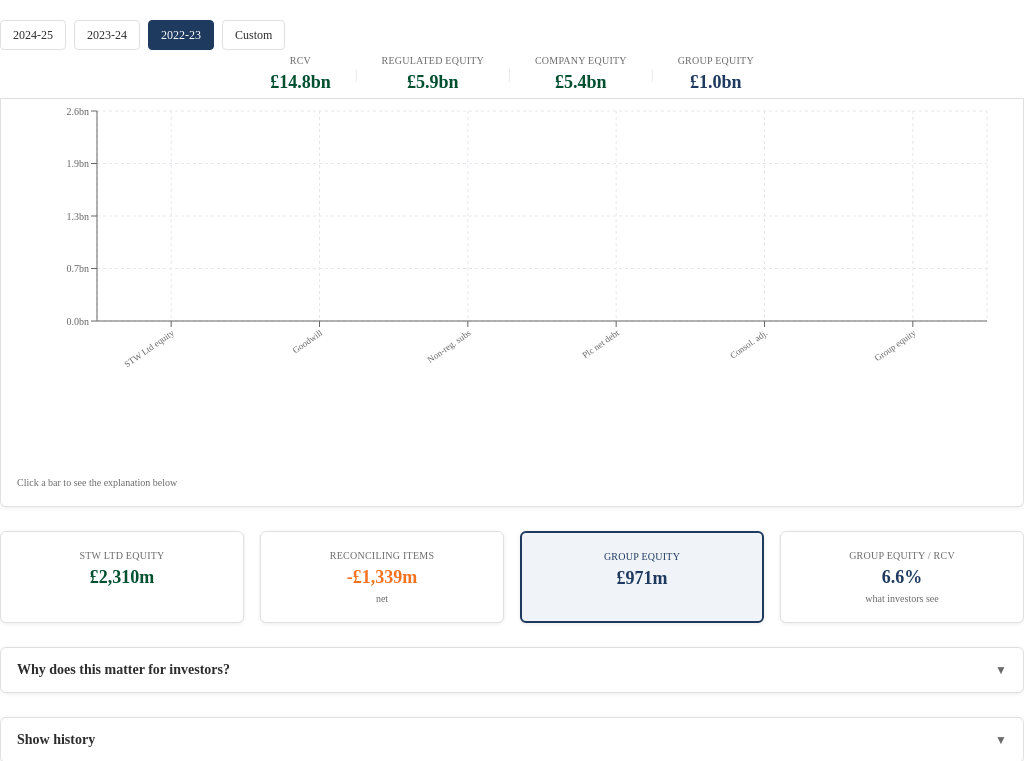
Test: EquityBridge › Stage 4 context panel expands on click
(page scrolled)
Click the text "Why does this matter for investors?": (124, 670) [17,660,230,680]
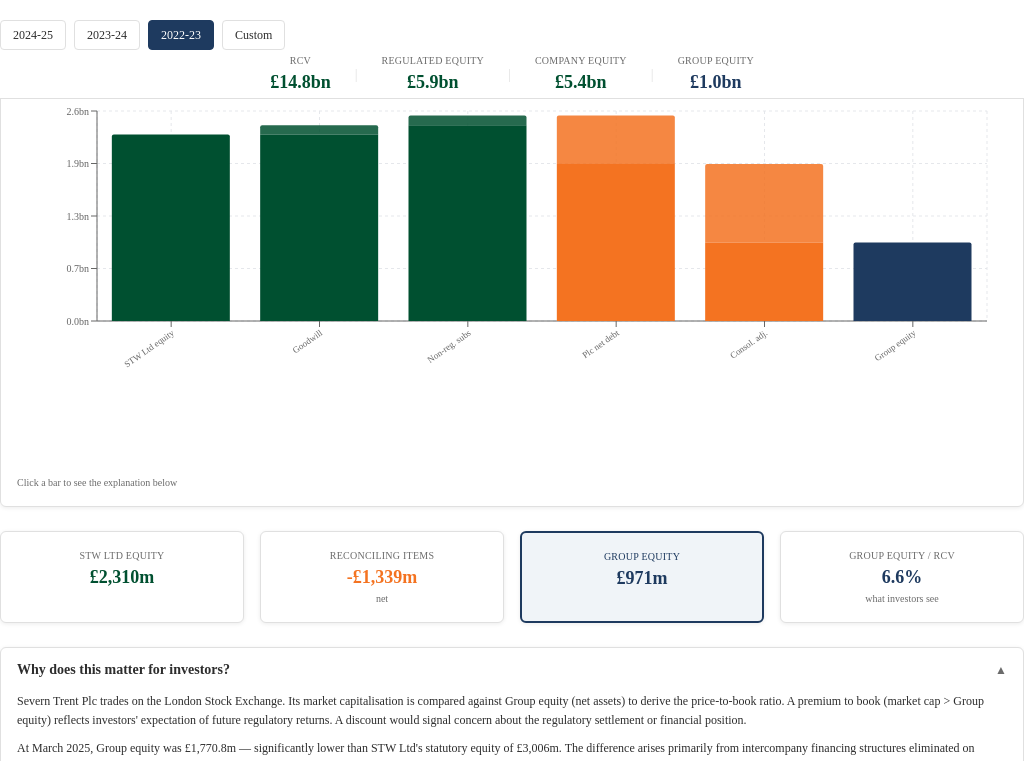
Expected: the text "price-to-book ratio" is shown, [17,694,943,708]
